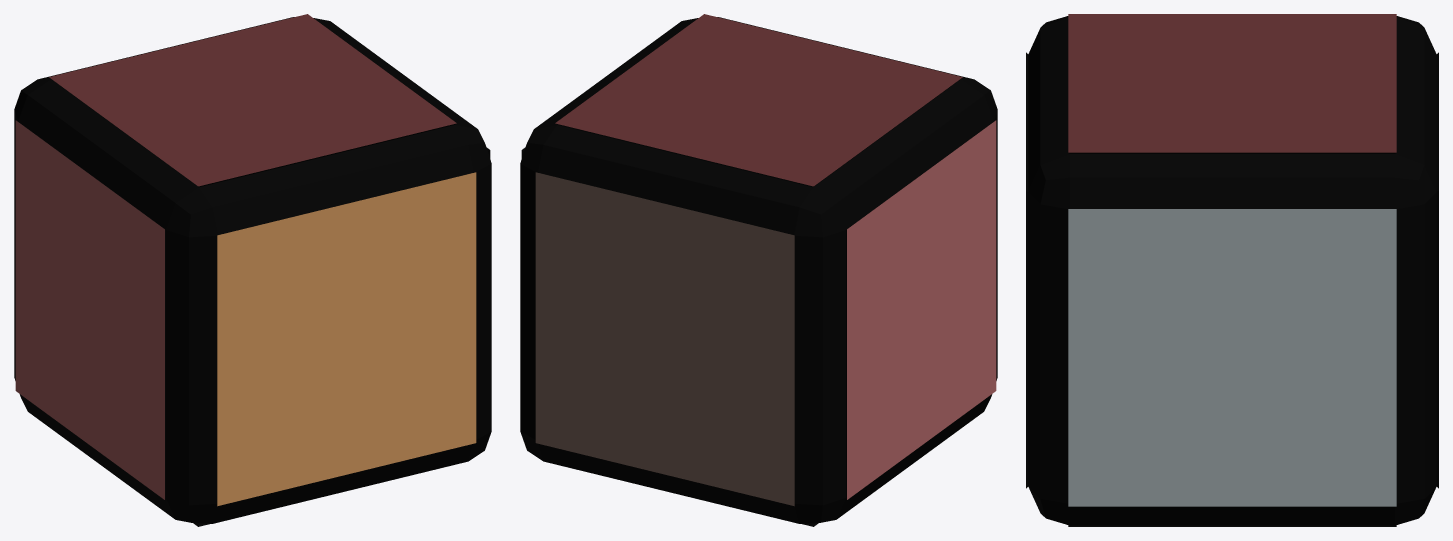
File: singleCube3.fbx
3 views of the same model, side by side, from view 1: azimuth 30°, elevation 25°; view 2: azimuth 150°, elevation 25°; view 3: azimuth 270°, elevation 25° (orthographic). The views are drawn at different scales.
Parts seen in each view (by area): view 1: Cube; view 2: Cube; view 3: Cube.
Boxes of the visible parts, <box> form: Cube: <box>14,14,491,526</box>; Cube: <box>520,14,997,526</box>; Cube: <box>1026,14,1438,526</box>.
Bounding box in the file's own units: 202 × 202 × 202.
